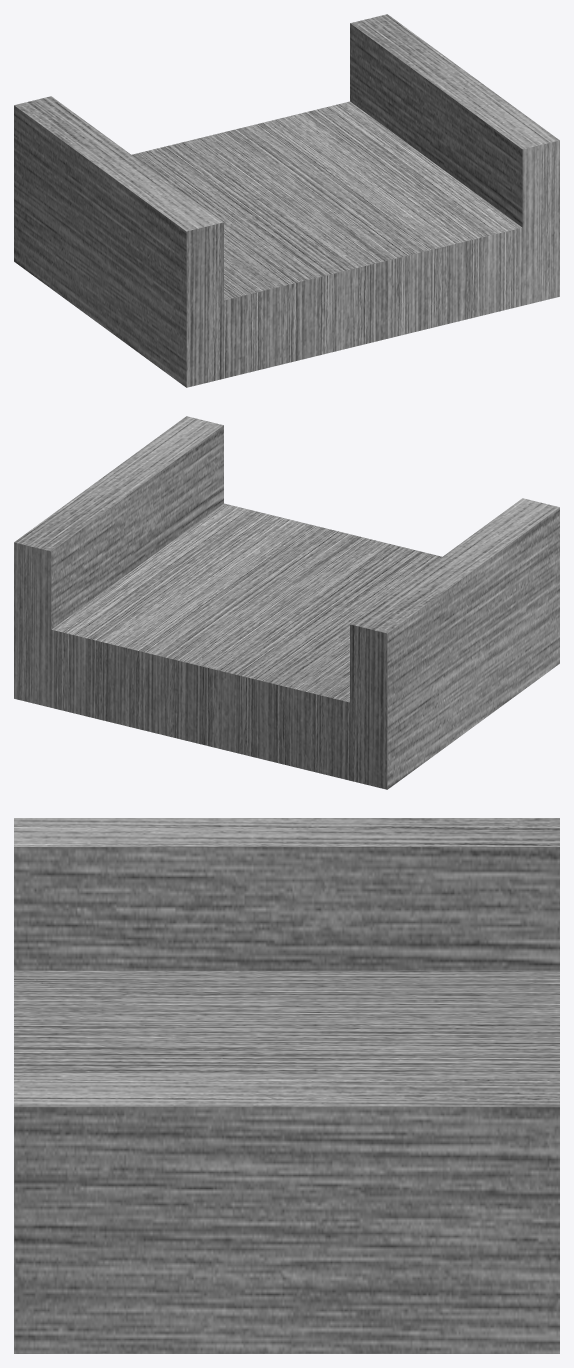
File: Slide.fbx
The picture shows the model from 3 angles, top to bottom: view 1: azimuth 30°, elevation 25°; view 2: azimuth 150°, elevation 25°; view 3: azimuth 270°, elevation 25°; orthographic projection. The views are drawn at different scales.
Parts seen in each view (by area): view 1: Cube; view 2: Cube; view 3: Cube.
Part boxes in pixels (bbox=[...]): Cube: bbox=[14, 14, 559, 387]; Cube: bbox=[14, 416, 559, 789]; Cube: bbox=[14, 818, 559, 1353].
Size of the model in its own units: 2.5 by 1 by 2.
